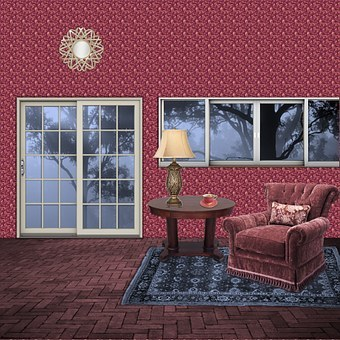chair: (217, 172, 331, 297)
